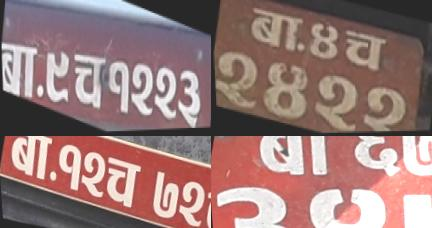0: (245, 136, 339, 185)
1: (101, 50, 134, 124), (46, 140, 87, 194)
2: (305, 68, 366, 134), (213, 41, 264, 117), (354, 80, 413, 133), (126, 54, 159, 124), (150, 59, 182, 131), (170, 173, 210, 228), (74, 148, 112, 200)
3: (172, 61, 207, 130)
4: (254, 56, 316, 130), (300, 13, 348, 71), (344, 136, 409, 178)
5: (285, 175, 407, 228)
7: (144, 170, 185, 223), (387, 136, 432, 183)
8: (195, 179, 211, 228)
9: (40, 43, 74, 114)
ba: (211, 176, 306, 228), (242, 0, 307, 62), (1, 29, 44, 105), (0, 136, 58, 184)
cha: (336, 23, 394, 84), (67, 42, 110, 121), (97, 151, 146, 212)
